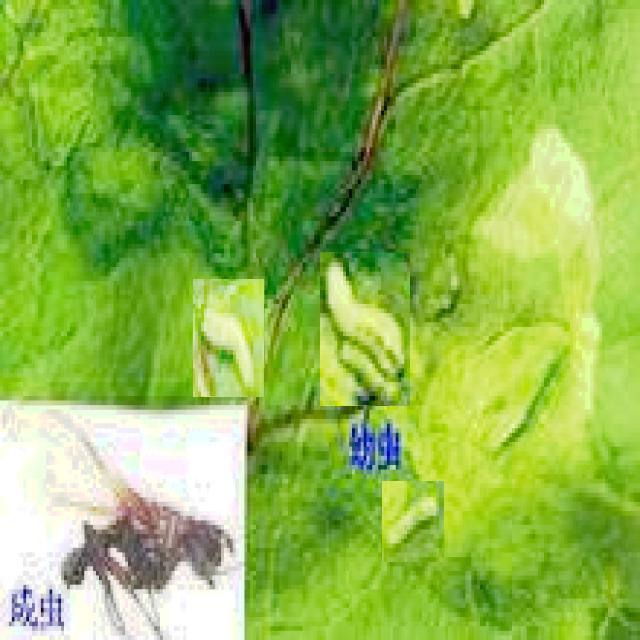whorl-maggot: (321, 253, 411, 407), (193, 279, 264, 397), (383, 481, 445, 562)
